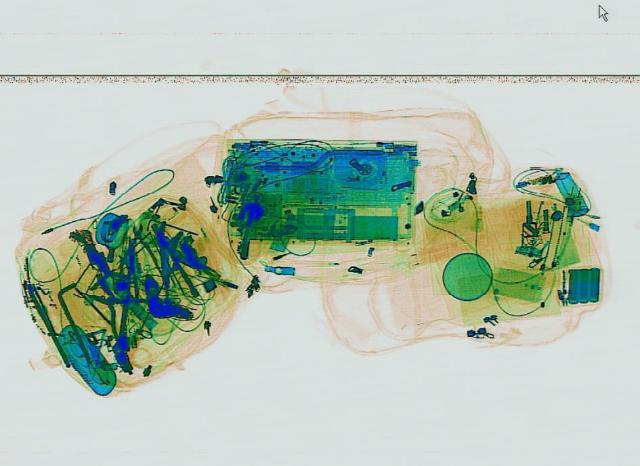Pliers: (110, 222, 168, 292)
